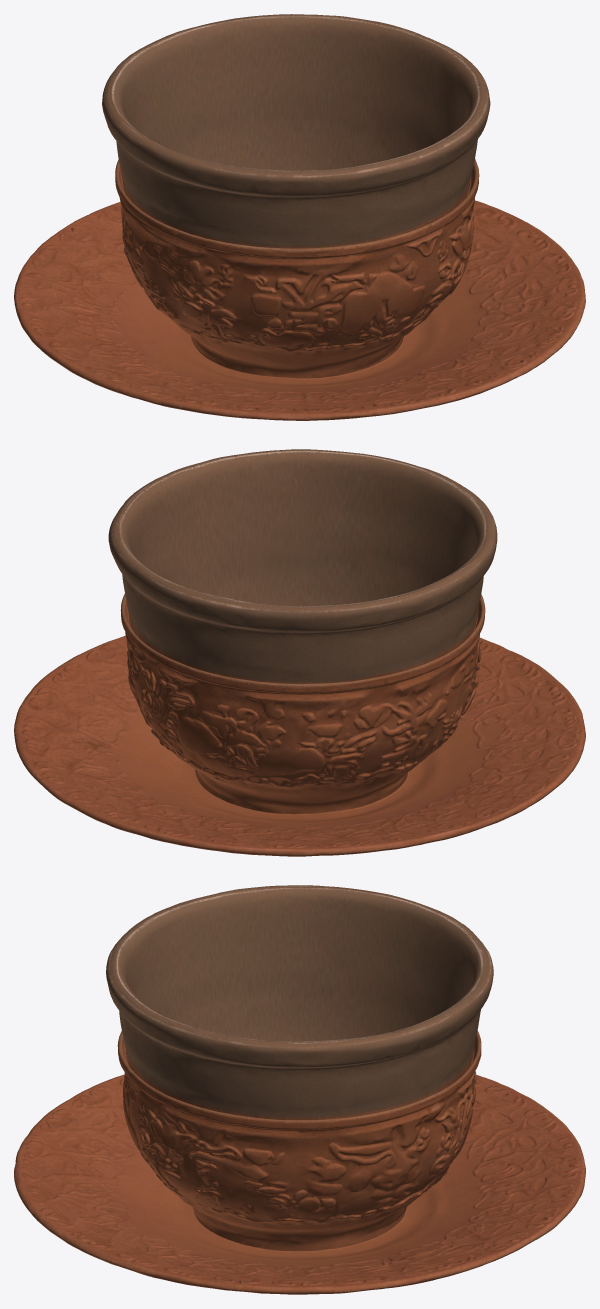
File: fildzan.glb
3 renders of one model, top to bottom at view 1: azimuth 30°, elevation 25°; view 2: azimuth 150°, elevation 25°; view 3: azimuth 270°, elevation 25°, orthographic.
Size of the model in its own units: 1.9 by 0.9495 by 1.9.
Materials: 1 (1 with a texture image).
